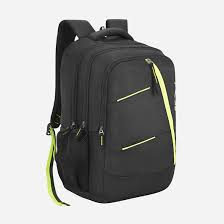backpack: (45, 18, 176, 206)
